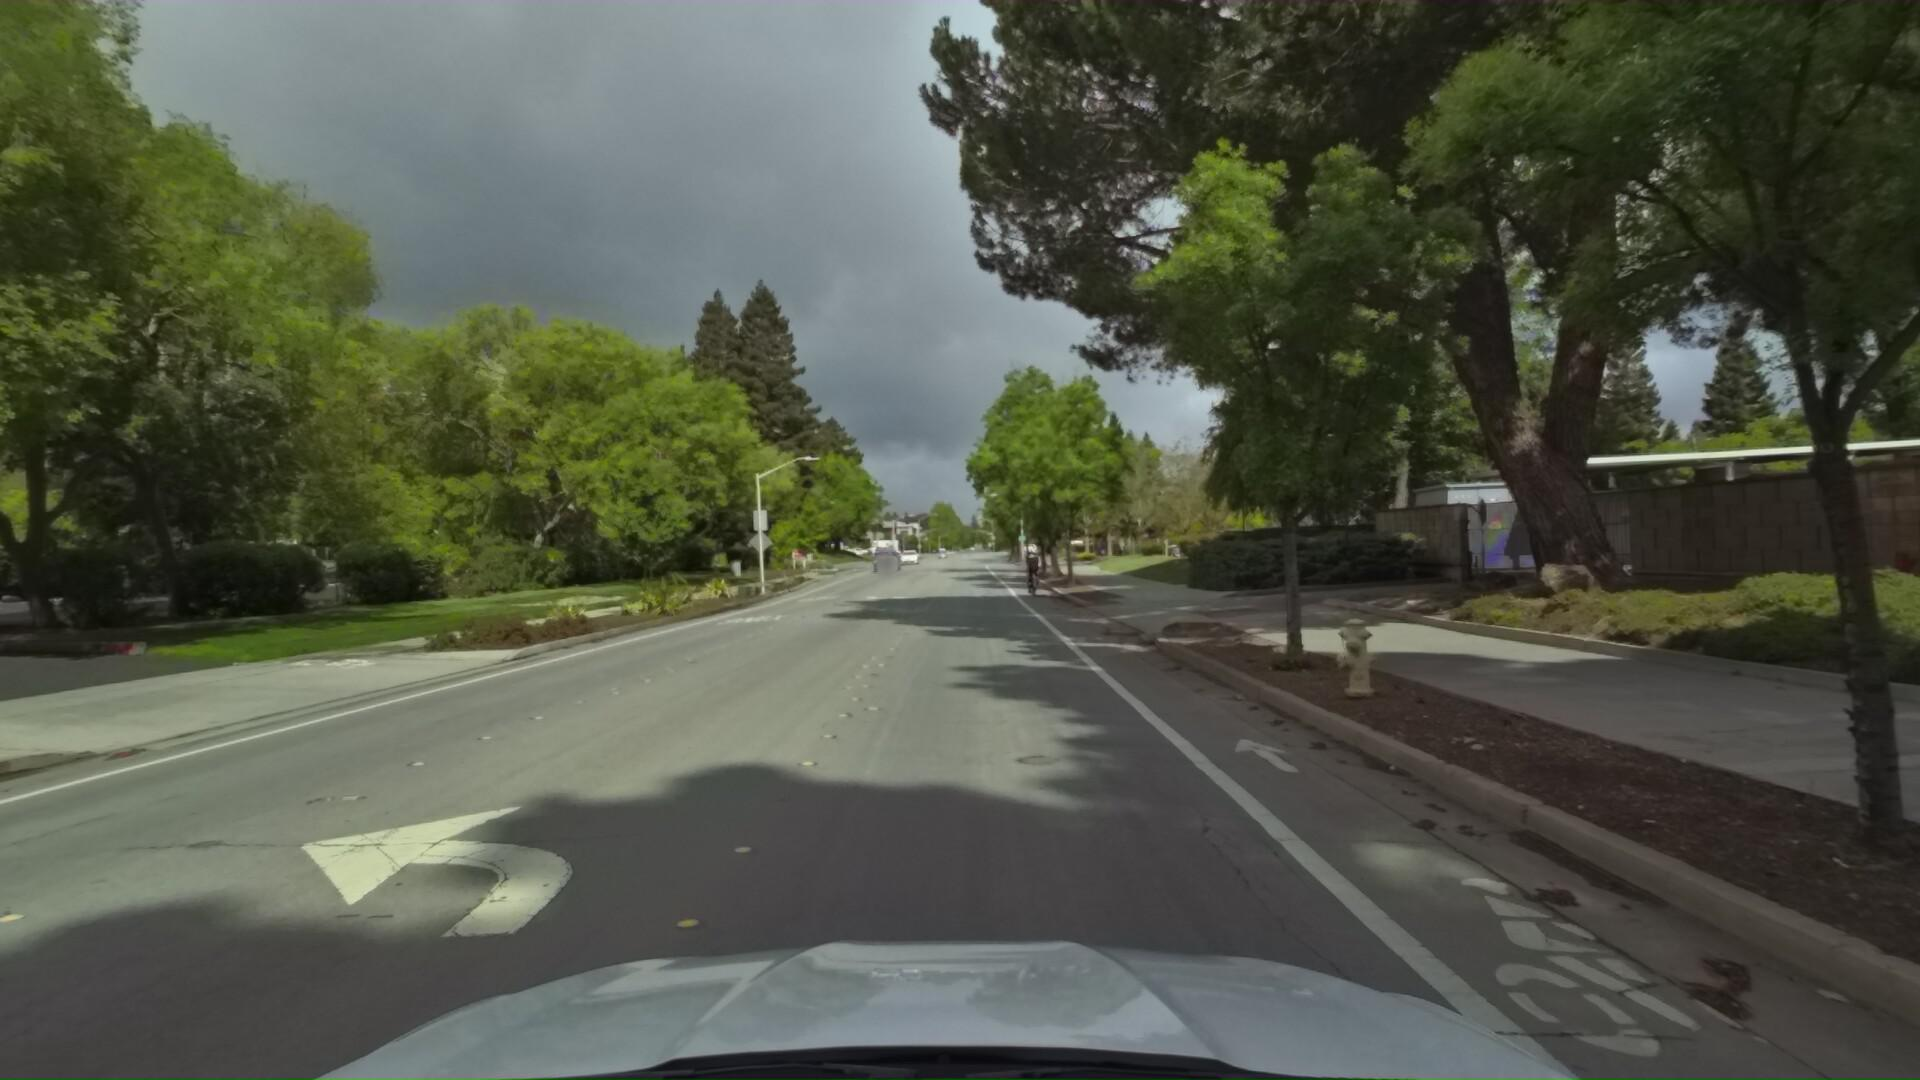bicycle: (1014, 543, 1046, 597)
car: (866, 543, 897, 568)
